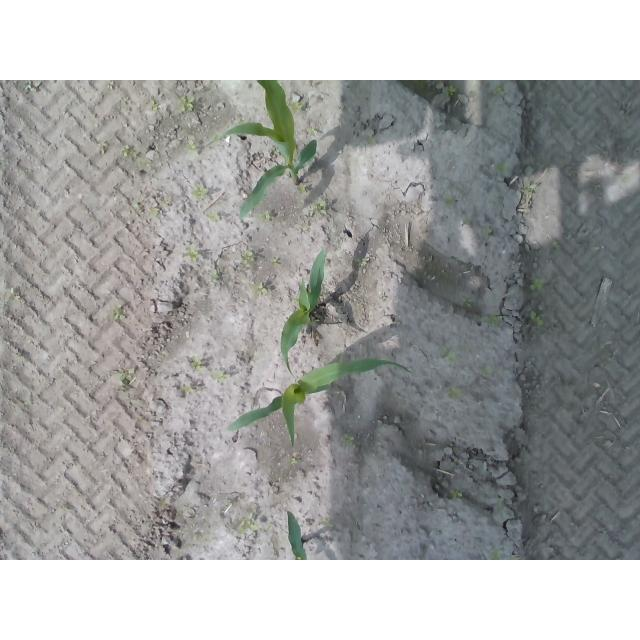Maize: (225, 357, 415, 447), (210, 81, 318, 220), (279, 251, 327, 379), (286, 508, 307, 560)
Weeds: (177, 95, 195, 112), (239, 516, 257, 532), (191, 183, 209, 199), (529, 312, 544, 328), (484, 314, 503, 326), (440, 346, 457, 359), (240, 252, 255, 265), (314, 199, 327, 213), (186, 248, 199, 262), (184, 143, 200, 154), (113, 304, 124, 320), (210, 371, 226, 382), (498, 162, 511, 175), (342, 434, 355, 447), (443, 83, 457, 95), (531, 278, 545, 290), (256, 287, 272, 297), (448, 388, 461, 400), (260, 210, 272, 223), (120, 144, 132, 157), (289, 101, 303, 112), (208, 270, 220, 282), (114, 372, 126, 384), (148, 207, 161, 218), (146, 101, 158, 112), (450, 488, 463, 497), (525, 183, 536, 193), (444, 195, 453, 206), (191, 361, 201, 370), (297, 184, 308, 192), (496, 86, 505, 95), (209, 212, 218, 221), (289, 458, 298, 464)
